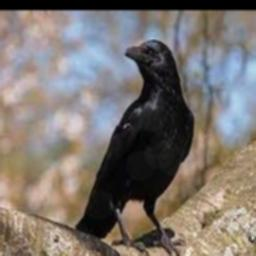Crow: (75, 40, 195, 256)
